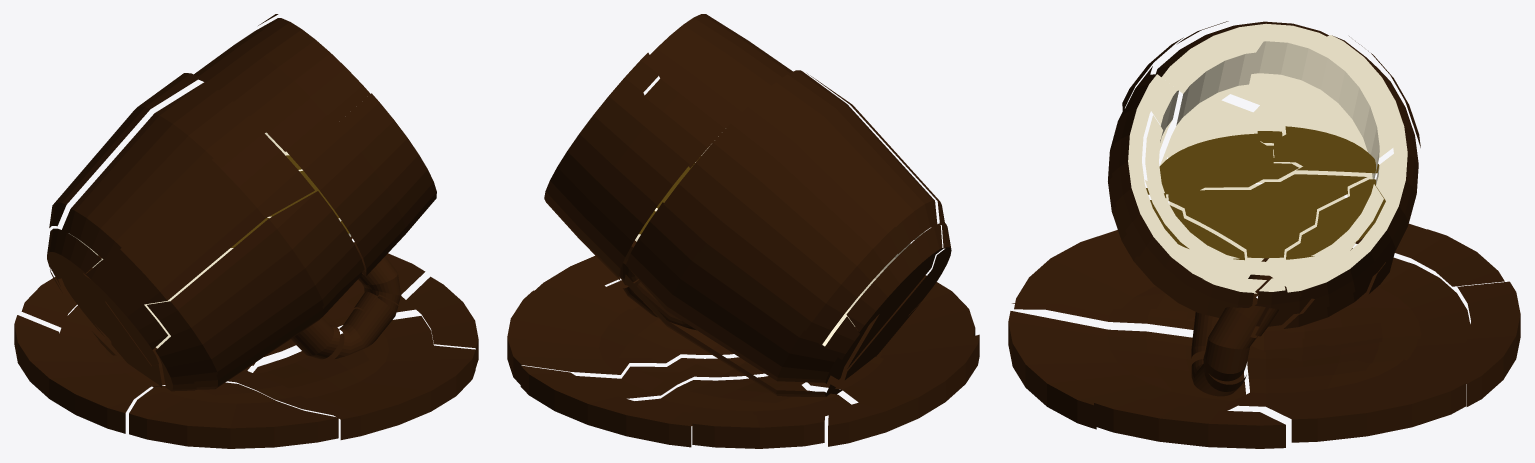
Rendered from hotChocolateBallista-explosion.glb.
3 renders of one model, left to right at view 1: azimuth 30°, elevation 25°; view 2: azimuth 150°, elevation 25°; view 3: azimuth 270°, elevation 25°, orthographic. The views are drawn at different scales.
Parts seen in each view (by area): view 1: HOT_CHOCOLATE_BALLISTA.028, HOT_CHOCOLATE_BALLISTA.033, HOT_CHOCOLATE_BALLISTA.023, HOT_CHOCOLATE_BALLISTA.004, HOT_CHOCOLATE_BALLISTA.040, HOT_CHOCOLATE_BALLISTA.024, HOT_CHOCOLATE_BALLISTA.009, HOT_CHOCOLATE_BALLISTA.010, HOT_CHOCOLATE_BALLISTA.034, HOT_CHOCOLATE_BALLISTA.027, HOT_CHOCOLATE_BALLISTA.002, HOT_CHOCOLATE_BALLISTA.008 (+10 smaller); view 2: HOT_CHOCOLATE_BALLISTA.008, HOT_CHOCOLATE_BALLISTA.003, HOT_CHOCOLATE_BALLISTA.025, HOT_CHOCOLATE_BALLISTA.038, HOT_CHOCOLATE_BALLISTA.024, HOT_CHOCOLATE_BALLISTA.023, HOT_CHOCOLATE_BALLISTA.010, HOT_CHOCOLATE_BALLISTA.020, HOT_CHOCOLATE_BALLISTA.043, HOT_CHOCOLATE_BALLISTA.042, HOT_CHOCOLATE_BALLISTA.002, HOT_CHOCOLATE_BALLISTA.009 (+9 smaller); view 3: HOT_CHOCOLATE_BALLISTA.004, HOT_CHOCOLATE_BALLISTA.038, HOT_CHOCOLATE_BALLISTA.017, HOT_CHOCOLATE_BALLISTA.003, HOT_CHOCOLATE_BALLISTA.024, HOT_CHOCOLATE_BALLISTA.043, HOT_CHOCOLATE_BALLISTA.026, HOT_CHOCOLATE_BALLISTA.009, HOT_CHOCOLATE_BALLISTA.040, HOT_CHOCOLATE_BALLISTA.034, HOT_CHOCOLATE_BALLISTA.020, HOT_CHOCOLATE_BALLISTA.036 (+18 smaller).
Boxes of the visible parts, left/top/right/bottom form: HOT_CHOCOLATE_BALLISTA.028: left=147, top=191, right=364, bottom=391; HOT_CHOCOLATE_BALLISTA.033: left=102, top=132, right=314, bottom=304; HOT_CHOCOLATE_BALLISTA.023: left=62, top=82, right=266, bottom=259; HOT_CHOCOLATE_BALLISTA.004: left=253, top=316, right=475, bottom=439; HOT_CHOCOLATE_BALLISTA.040: left=286, top=93, right=436, bottom=275; HOT_CHOCOLATE_BALLISTA.024: left=194, top=18, right=370, bottom=151; HOT_CHOCOLATE_BALLISTA.009: left=129, top=382, right=338, bottom=448; HOT_CHOCOLATE_BALLISTA.010: left=14, top=315, right=165, bottom=433; HOT_CHOCOLATE_BALLISTA.034: left=406, top=276, right=478, bottom=367; HOT_CHOCOLATE_BALLISTA.027: left=83, top=260, right=167, bottom=365; HOT_CHOCOLATE_BALLISTA.002: left=47, top=228, right=110, bottom=340; HOT_CHOCOLATE_BALLISTA.008: left=49, top=73, right=200, bottom=227; HOT_CHOCOLATE_BALLISTA.008: left=663, top=92, right=898, bottom=345; HOT_CHOCOLATE_BALLISTA.003: left=544, top=52, right=689, bottom=280; HOT_CHOCOLATE_BALLISTA.025: left=626, top=202, right=867, bottom=383; HOT_CHOCOLATE_BALLISTA.038: left=507, top=285, right=733, bottom=384; HOT_CHOCOLATE_BALLISTA.024: left=644, top=14, right=792, bottom=168; HOT_CHOCOLATE_BALLISTA.023: left=764, top=70, right=937, bottom=253; HOT_CHOCOLATE_BALLISTA.010: left=807, top=334, right=979, bottom=446; HOT_CHOCOLATE_BALLISTA.020: left=520, top=365, right=713, bottom=447; HOT_CHOCOLATE_BALLISTA.043: left=635, top=376, right=850, bottom=416; HOT_CHOCOLATE_BALLISTA.042: left=692, top=407, right=825, bottom=448; HOT_CHOCOLATE_BALLISTA.002: left=846, top=223, right=943, bottom=368; HOT_CHOCOLATE_BALLISTA.009: left=853, top=275, right=975, bottom=358; HOT_CHOCOLATE_BALLISTA.004: left=1008, top=311, right=1245, bottom=429; HOT_CHOCOLATE_BALLISTA.038: left=1225, top=346, right=1466, bottom=442; HOT_CHOCOLATE_BALLISTA.017: left=1230, top=37, right=1393, bottom=196; HOT_CHOCOLATE_BALLISTA.003: left=1284, top=35, right=1418, bottom=315; HOT_CHOCOLATE_BALLISTA.024: left=1156, top=21, right=1328, bottom=209; HOT_CHOCOLATE_BALLISTA.043: left=1276, top=248, right=1470, bottom=348; HOT_CHOCOLATE_BALLISTA.026: left=1168, top=174, right=1366, bottom=258; HOT_CHOCOLATE_BALLISTA.009: left=1014, top=230, right=1191, bottom=311; HOT_CHOCOLATE_BALLISTA.040: left=1112, top=66, right=1221, bottom=279; HOT_CHOCOLATE_BALLISTA.034: left=1094, top=399, right=1285, bottom=448; HOT_CHOCOLATE_BALLISTA.020: left=1441, top=281, right=1520, bottom=406; HOT_CHOCOLATE_BALLISTA.036: left=1250, top=326, right=1464, bottom=370.
Size of the model in its own units: 7.46 by 6.07 by 7.44.
